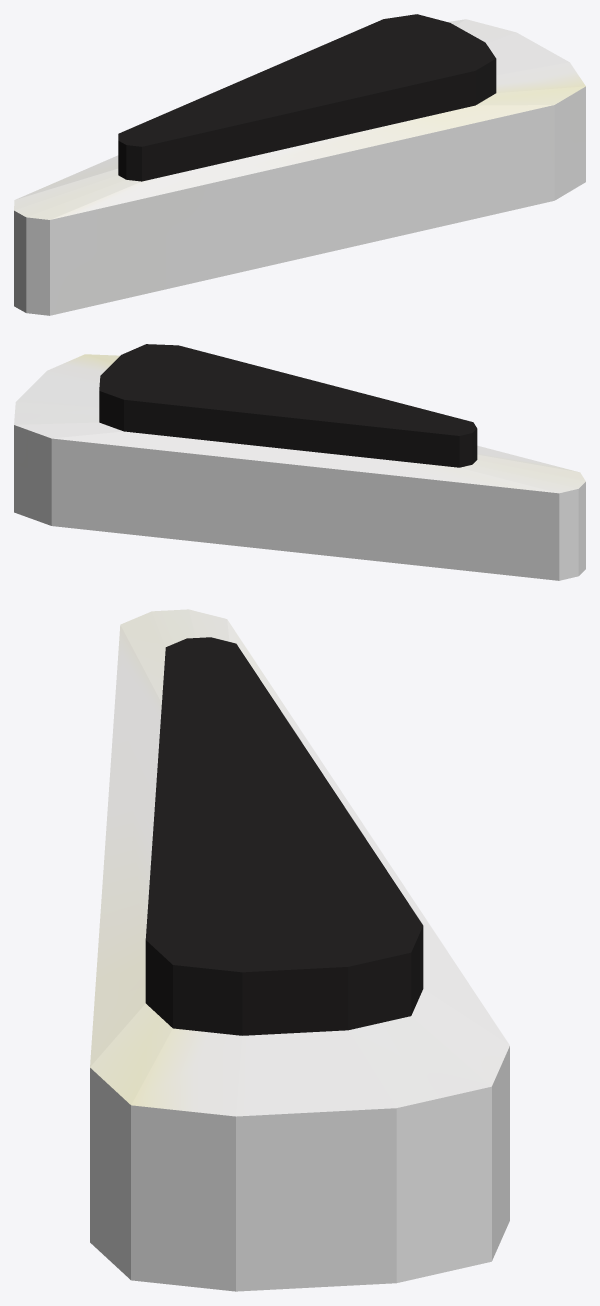
File: LeftPaddle.fbx
3 renders of one model, top to bottom at view 1: azimuth 30°, elevation 25°; view 2: azimuth 150°, elevation 25°; view 3: azimuth 270°, elevation 25°, orthographic. The views are drawn at different scales.
Parts seen in each view (by area): view 1: Plane; view 2: Plane; view 3: Plane.
Boxes of the visible parts, bbox=[...] form: Plane: bbox=[14, 14, 585, 315]; Plane: bbox=[14, 344, 585, 580]; Plane: bbox=[90, 609, 509, 1291].
Size of the model in its own units: 38.93 by 8.79 by 13.63.
